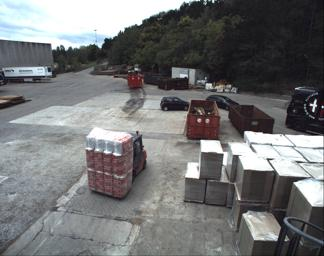rockwool_batts: (84, 125, 132, 197)
